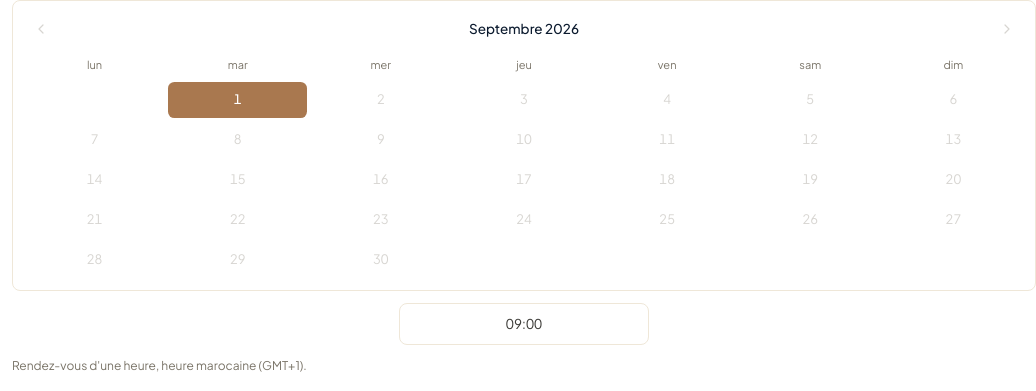
Test: expiration du hold › libère la sélection et prévient le parent avec null au bout de 5 minutes
The width and height of the screenshot is (1036, 391).
Click the button "09:00" at {"x": 524, "y": 324}, box 399,302 -> 649,345
Wait 300001 ms
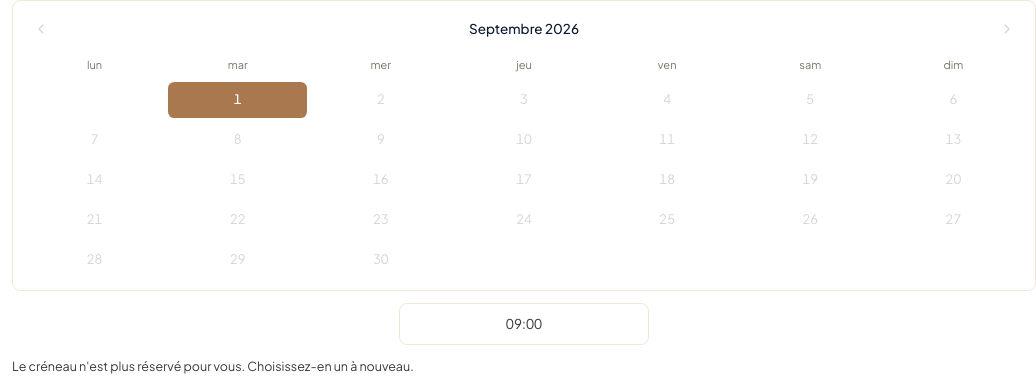
Expected: the text "n'est plus réservé pour vous" is shown, 12,358 -> 414,374
